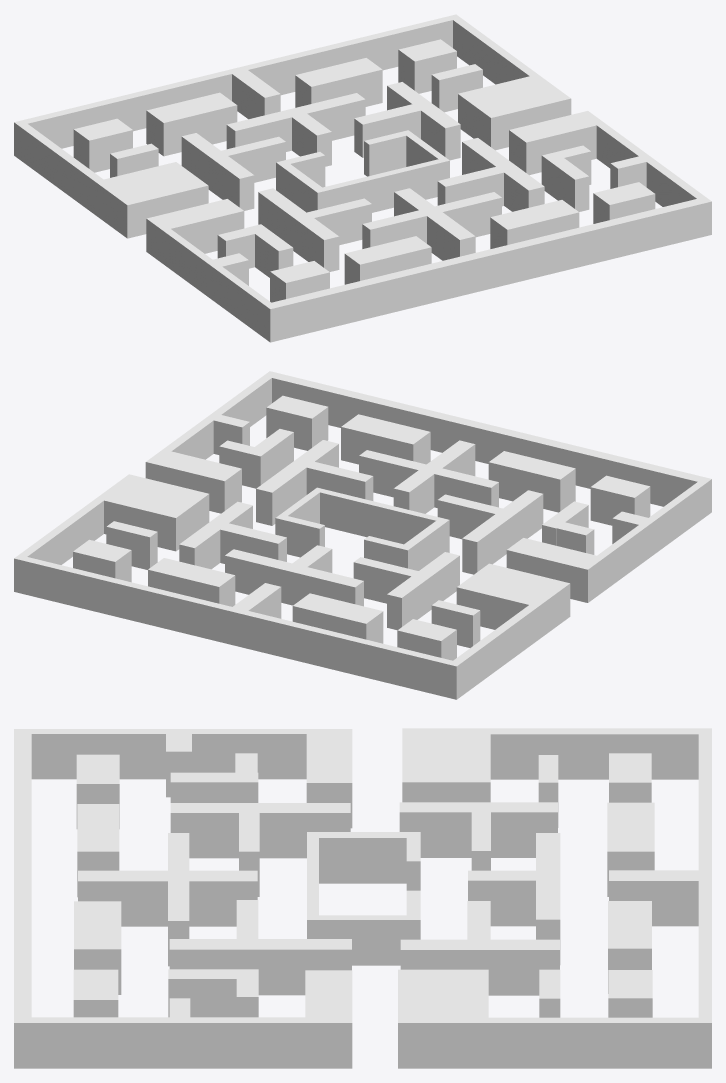
File: maze.obj
3 views of the same model, one above another, from view 1: azimuth 30°, elevation 25°; view 2: azimuth 150°, elevation 25°; view 3: azimuth 270°, elevation 25° (orthographic). The views are drawn at different scales.
Visible parts, largest first — view 1: Mesh3 Group1 Model, Mesh5 Group1 Model, Mesh15 Group1 Model, Mesh19 Group1 Model, Mesh18 Group1 Model, Mesh17 Group1 Model, Mesh1 Group2 Group1 Model, Mesh20 Group1 Model, Mesh12 Group1 Model, Mesh13 Group1 Model, Mesh9 Group1 Model, Mesh11 Group1 Model (+10 smaller); view 2: Mesh5 Group1 Model, Mesh3 Group1 Model, Mesh9 Group1 Model, Mesh15 Group1 Model, Mesh19 Group1 Model, Mesh18 Group1 Model, Mesh17 Group1 Model, Mesh20 Group1 Model, Mesh12 Group1 Model, Mesh10 Group1 Model, Mesh22 Group1 Model, Mesh13 Group1 Model (+10 smaller); view 3: Mesh5 Group1 Model, Mesh3 Group1 Model, Mesh15 Group1 Model, Mesh19 Group1 Model, Mesh17 Group1 Model, Mesh9 Group1 Model, Mesh20 Group1 Model, Mesh12 Group1 Model, Mesh18 Group1 Model, Mesh21 Group1 Model, Mesh22 Group1 Model, Mesh13 Group1 Model (+10 smaller).
Part boxes in pixels (<box>): Mesh3 Group1 Model: <box>146,111,711,342</box>; Mesh5 Group1 Model: <box>14,14,571,238</box>; Mesh15 Group1 Model: <box>362,188,501,260</box>; Mesh19 Group1 Model: <box>258,188,371,271</box>; Mesh18 Group1 Model: <box>226,93,365,166</box>; Mesh17 Group1 Model: <box>181,133,285,210</box>; Mesh1 Group2 Group1 Model: <box>276,130,449,212</box>; Mesh20 Group1 Model: <box>437,138,544,211</box>; Mesh12 Group1 Model: <box>354,82,460,160</box>; Mesh13 Group1 Model: <box>146,92,237,156</box>; Mesh9 Group1 Model: <box>276,135,438,212</box>; Mesh11 Group1 Model: <box>295,58,382,107</box>; Mesh5 Group1 Model: <box>14,474,570,699</box>; Mesh3 Group1 Model: <box>145,371,711,602</box>; Mesh9 Group1 Model: <box>275,492,449,570</box>; Mesh15 Group1 Model: <box>359,440,498,513</box>; Mesh19 Group1 Model: <box>437,490,543,574</box>; Mesh18 Group1 Model: <box>225,545,363,606</box>; Mesh17 Group1 Model: <box>353,552,459,630</box>; Mesh20 Group1 Model: <box>256,440,373,525</box>; Mesh12 Group1 Model: <box>179,501,286,569</box>; Mesh10 Group1 Model: <box>488,451,575,512</box>; Mesh22 Group1 Model: <box>341,414,430,464</box>; Mesh13 Group1 Model: <box>292,593,383,643</box>; Mesh5 Group1 Model: <box>398,728,711,1068</box>; Mesh3 Group1 Model: <box>14,729,352,1068</box>; Mesh15 Group1 Model: <box>78,833,257,966</box>; Mesh19 Group1 Model: <box>170,803,350,896</box>; Mesh17 Group1 Model: <box>399,802,557,870</box>; Mesh9 Group1 Model: <box>307,838,420,965</box>; Mesh20 Group1 Model: <box>169,900,351,995</box>; Mesh12 Group1 Model: <box>400,901,559,995</box>; Mesh18 Group1 Model: <box>468,833,560,964</box>; Mesh21 Group1 Model: <box>168,969,258,1017</box>; Mesh22 Group1 Model: <box>74,901,121,994</box>; Mesh13 Group1 Model: <box>607,802,654,896</box>.
Bounding box in the file's own units: 8.46 × 0.6096 × 8.47.
Materials: 1 (1 with a texture image).
